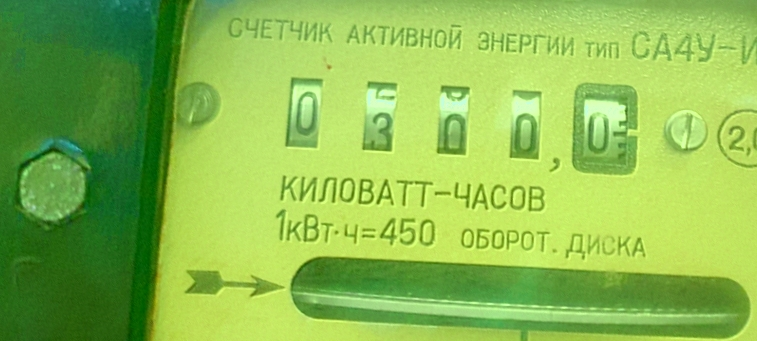0: (583, 108, 613, 158), (508, 110, 539, 158), (292, 86, 320, 139), (438, 108, 467, 158)
3: (365, 108, 396, 153)
screen: (263, 59, 649, 185)
